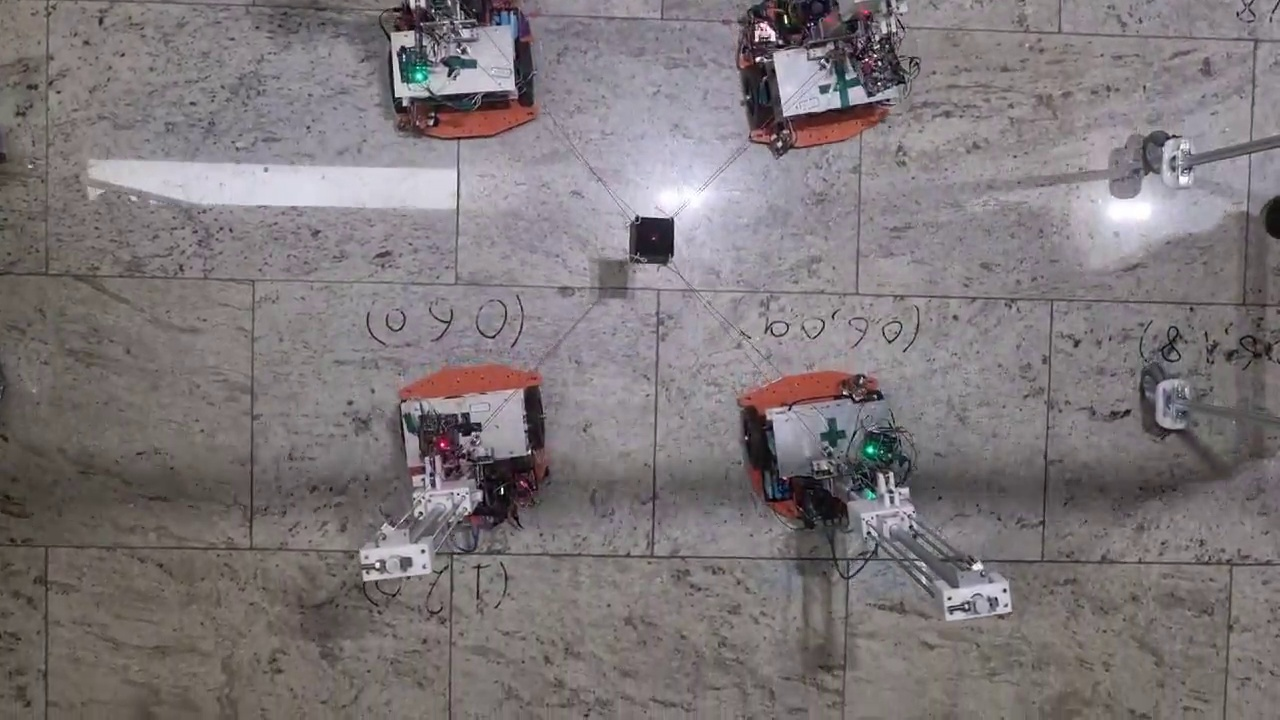e0: (632, 217, 671, 262)
r1: (743, 390, 889, 470)
r2: (743, 35, 896, 126)
r3: (389, 42, 535, 107)
r4: (400, 387, 545, 461)
y_+_axis_vector: (660, 289, 1053, 300)
y_-_axis_vector: (253, 278, 659, 289)
